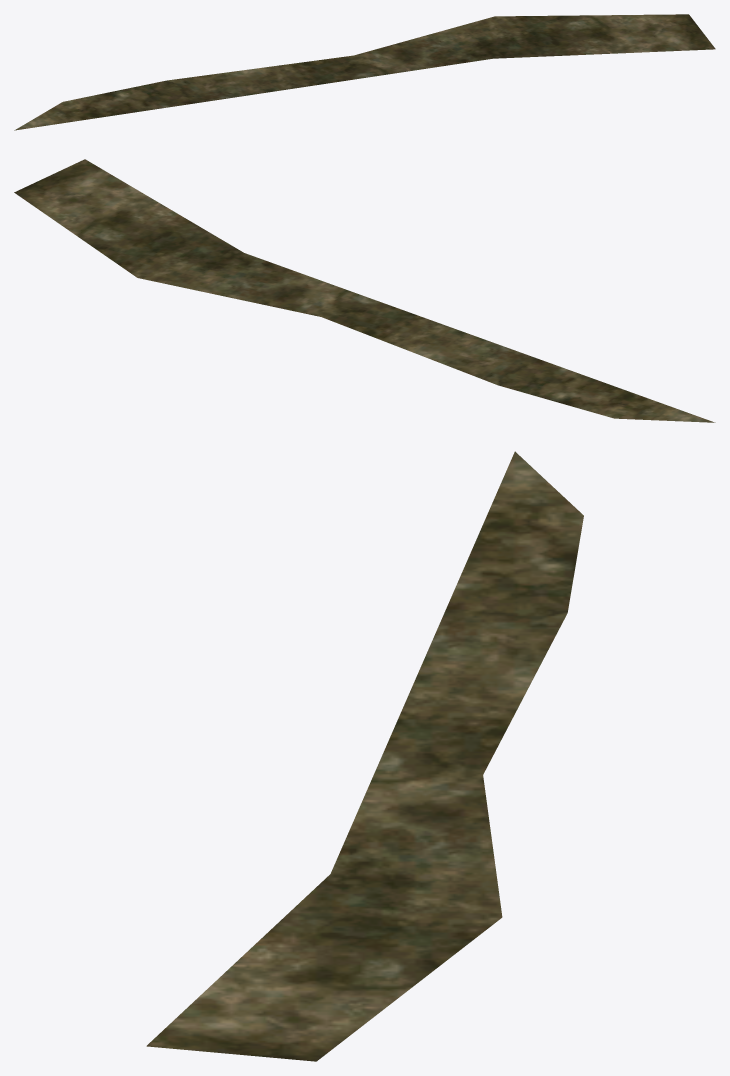
Rendered from CB_NEWPLAYSURFACE_CB_PLAYSURFACE116.fbx.
3 views of the same model, one above another, from view 1: azimuth 30°, elevation 25°; view 2: azimuth 150°, elevation 25°; view 3: azimuth 270°, elevation 25° (orthographic). The views are drawn at different scales.
Parts seen in each view (by area): view 1: CB_NEWPLAYSURFACE_CB_PLAYSURFACE116; view 2: CB_NEWPLAYSURFACE_CB_PLAYSURFACE116; view 3: CB_NEWPLAYSURFACE_CB_PLAYSURFACE116.
Part boxes in pixels (<box>): CB_NEWPLAYSURFACE_CB_PLAYSURFACE116: <box>14,14,715,130</box>; CB_NEWPLAYSURFACE_CB_PLAYSURFACE116: <box>14,159,715,422</box>; CB_NEWPLAYSURFACE_CB_PLAYSURFACE116: <box>146,451,583,1061</box>.
Bounding box in the file's own units: 226300 × 0.0142 × 68645.
Materials: 1 (1 with a texture image).
